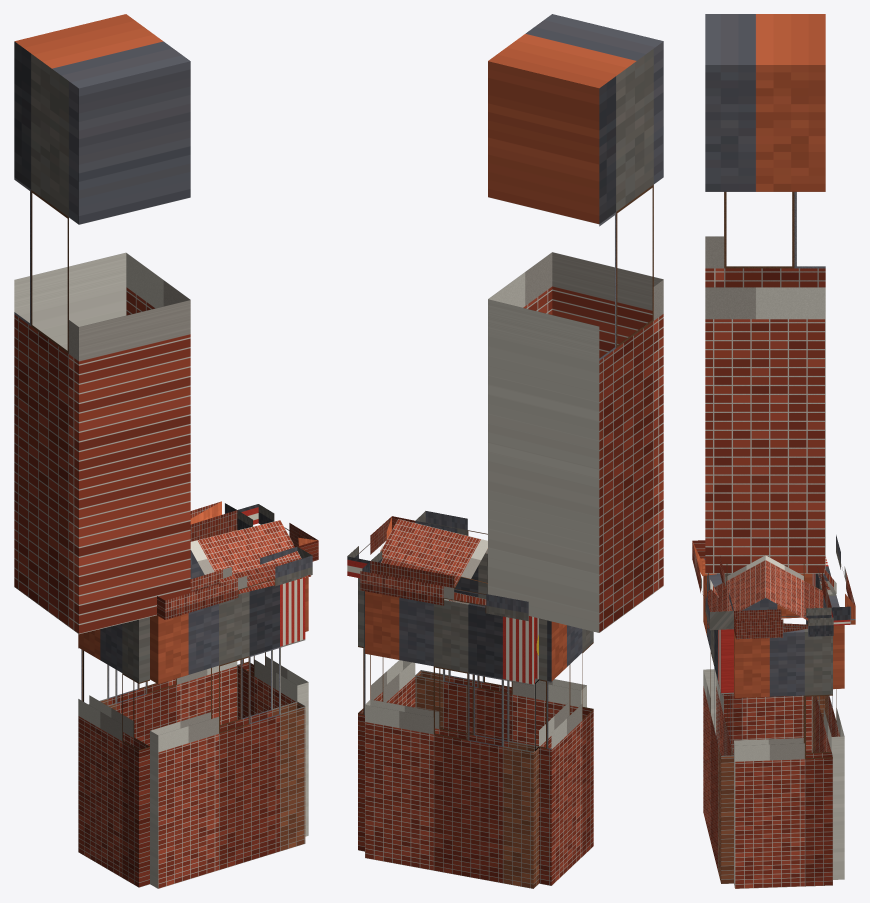
The picture shows the model from 3 angles, left to right: view 1: azimuth 30°, elevation 25°; view 2: azimuth 150°, elevation 25°; view 3: azimuth 270°, elevation 25°; orthographic projection. The views are drawn at different scales.
Visible parts, largest first — view 1: 921911870__chimney_0_xb, 921911870__wall_0_xb, 921911870__wall_1_xb, 921911870__wall_2_xb, 921911870_roof_-1_xb, 921911870__wall_3_xb, 921911870__cornice_0, 921911870__cornice_2, 921911870__cornice_3; view 2: 921911870__chimney_0_xb, 921911870__wall_2_xb, 921911870__wall_1_xb, 921911870__wall_0_xb, 921911870_roof_1_xb, 921911870__cornice_2, 921911870__wall_3_xb, 921911870__cornice_3, 921911870__cornice_0; view 3: 921911870__chimney_0_xb, 921911870__wall_3_xb, 921911870__wall_0_xb, 921911870__wall_1_xb, 921911870__wall_2_xb, 921911870__cornice_3, 921911870_roof_-1_xb, 921911870_roof_1_xb, 921911870__cornice_0, 921911870__cornice_2.
Boxes of the visible parts, x1=… form: 921911870__chimney_0_xb: x1=14, y1=14, x2=190, y2=634; 921911870__wall_0_xb: x1=150, y1=578, x2=305, y2=888; 921911870__wall_1_xb: x1=78, y1=617, x2=149, y2=887; 921911870__wall_2_xb: x1=83, y1=529, x2=237, y2=746; 921911870_roof_-1_xb: x1=190, y1=520, x2=310, y2=593; 921911870__wall_3_xb: x1=237, y1=530, x2=308, y2=836; 921911870__cornice_0: x1=157, y1=546, x2=312, y2=619; 921911870__cornice_2: x1=190, y1=501, x2=237, y2=541; 921911870__cornice_3: x1=237, y1=504, x2=318, y2=561; 921911870__chimney_0_xb: x1=488, y1=14, x2=663, y2=632; 921911870__wall_2_xb: x1=365, y1=591, x2=538, y2=888; 921911870__wall_1_xb: x1=539, y1=618, x2=593, y2=885; 921911870__wall_0_xb: x1=415, y1=549, x2=586, y2=746; 921911870_roof_1_xb: x1=380, y1=519, x2=487, y2=588; 921911870__cornice_2: x1=360, y1=561, x2=528, y2=620; 921911870__wall_3_xb: x1=358, y1=578, x2=415, y2=851; 921911870__cornice_3: x1=347, y1=516, x2=415, y2=578; 921911870__cornice_0: x1=415, y1=511, x2=487, y2=535; 921911870__chimney_0_xb: x1=705, y1=14, x2=825, y2=573; 921911870__wall_3_xb: x1=734, y1=629, x2=832, y2=888; 921911870__wall_0_xb: x1=703, y1=573, x2=733, y2=883; 921911870__wall_1_xb: x1=722, y1=573, x2=812, y2=754; 921911870__wall_2_xb: x1=812, y1=556, x2=844, y2=879; 921911870__cornice_3: x1=734, y1=607, x2=833, y2=639; 921911870_roof_-1_xb: x1=707, y1=555, x2=765, y2=628; 921911870_roof_1_xb: x1=765, y1=555, x2=823, y2=620; 921911870__cornice_0: x1=692, y1=540, x2=733, y2=630; 921911870__cornice_2: x1=817, y1=535, x2=855, y2=625.
Bounding box in the file's own units: 0.3435 × 1.05 × 0.2038.
Materials: 1 (1 with a texture image).
